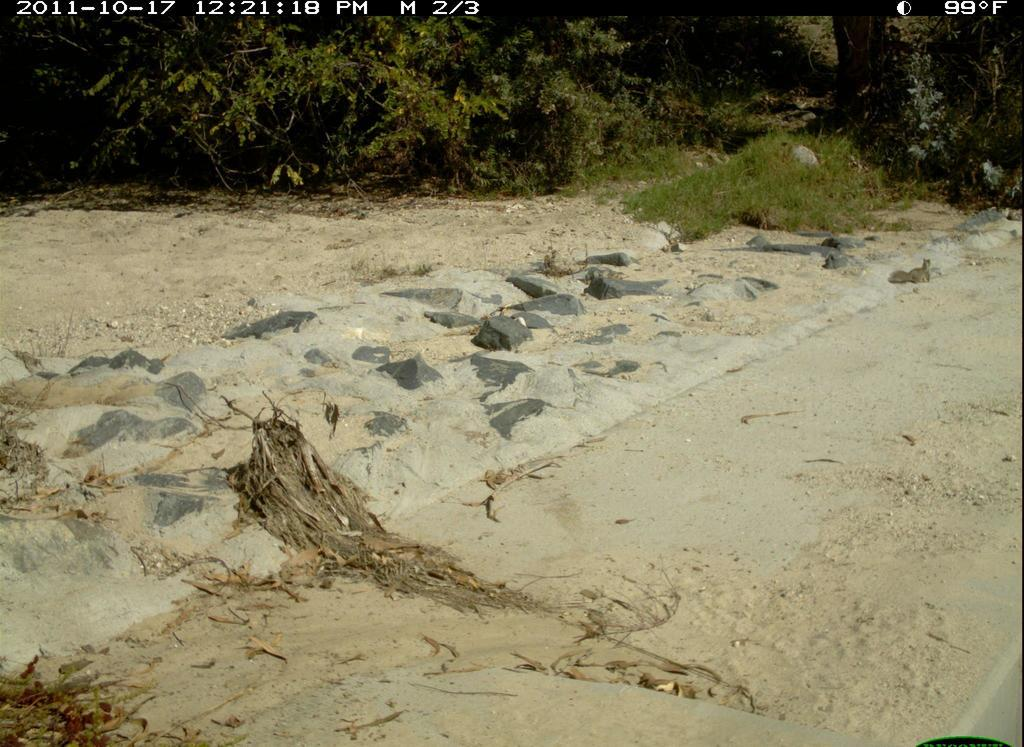squirrel: (889, 257, 940, 291)
